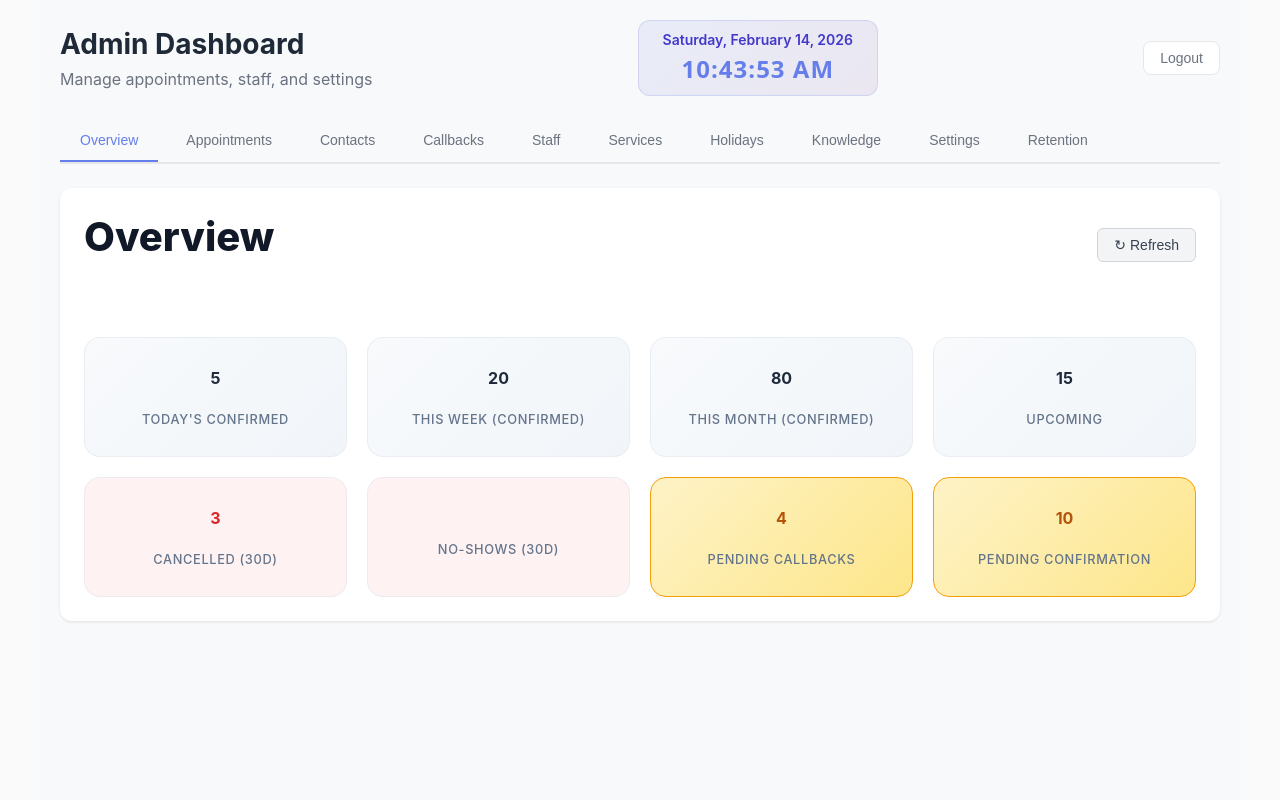
Test case: AdminDashboard › Appointments Tab › should show three action buttons (Confirm, Cancel, No-Show) for pending appointments
Note: Click on Appointments tab
Click the button "Appointments": (229, 141) [166,120,292,162]
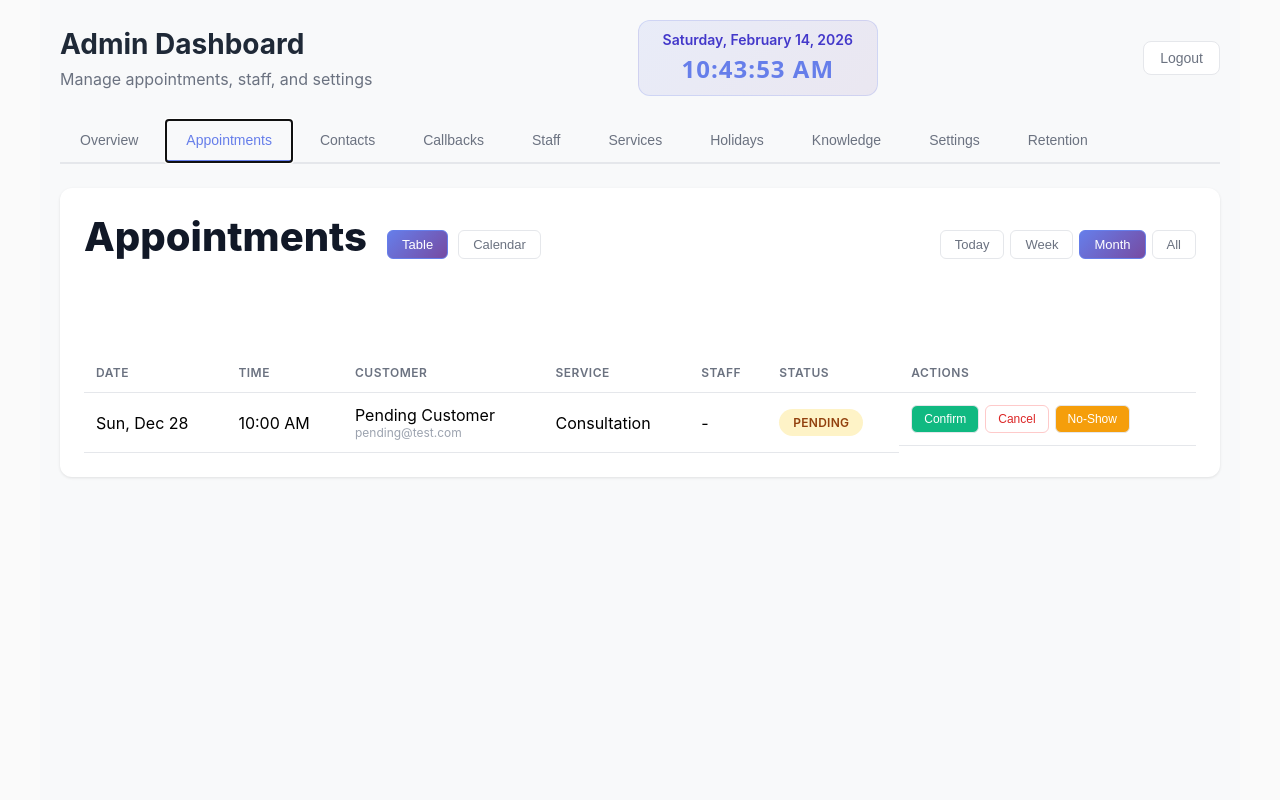
Expected: the button "Confirm" is shown, [911,405,979,433]
Result: the text "Pending Customer" is shown at [355,405,495,425]
